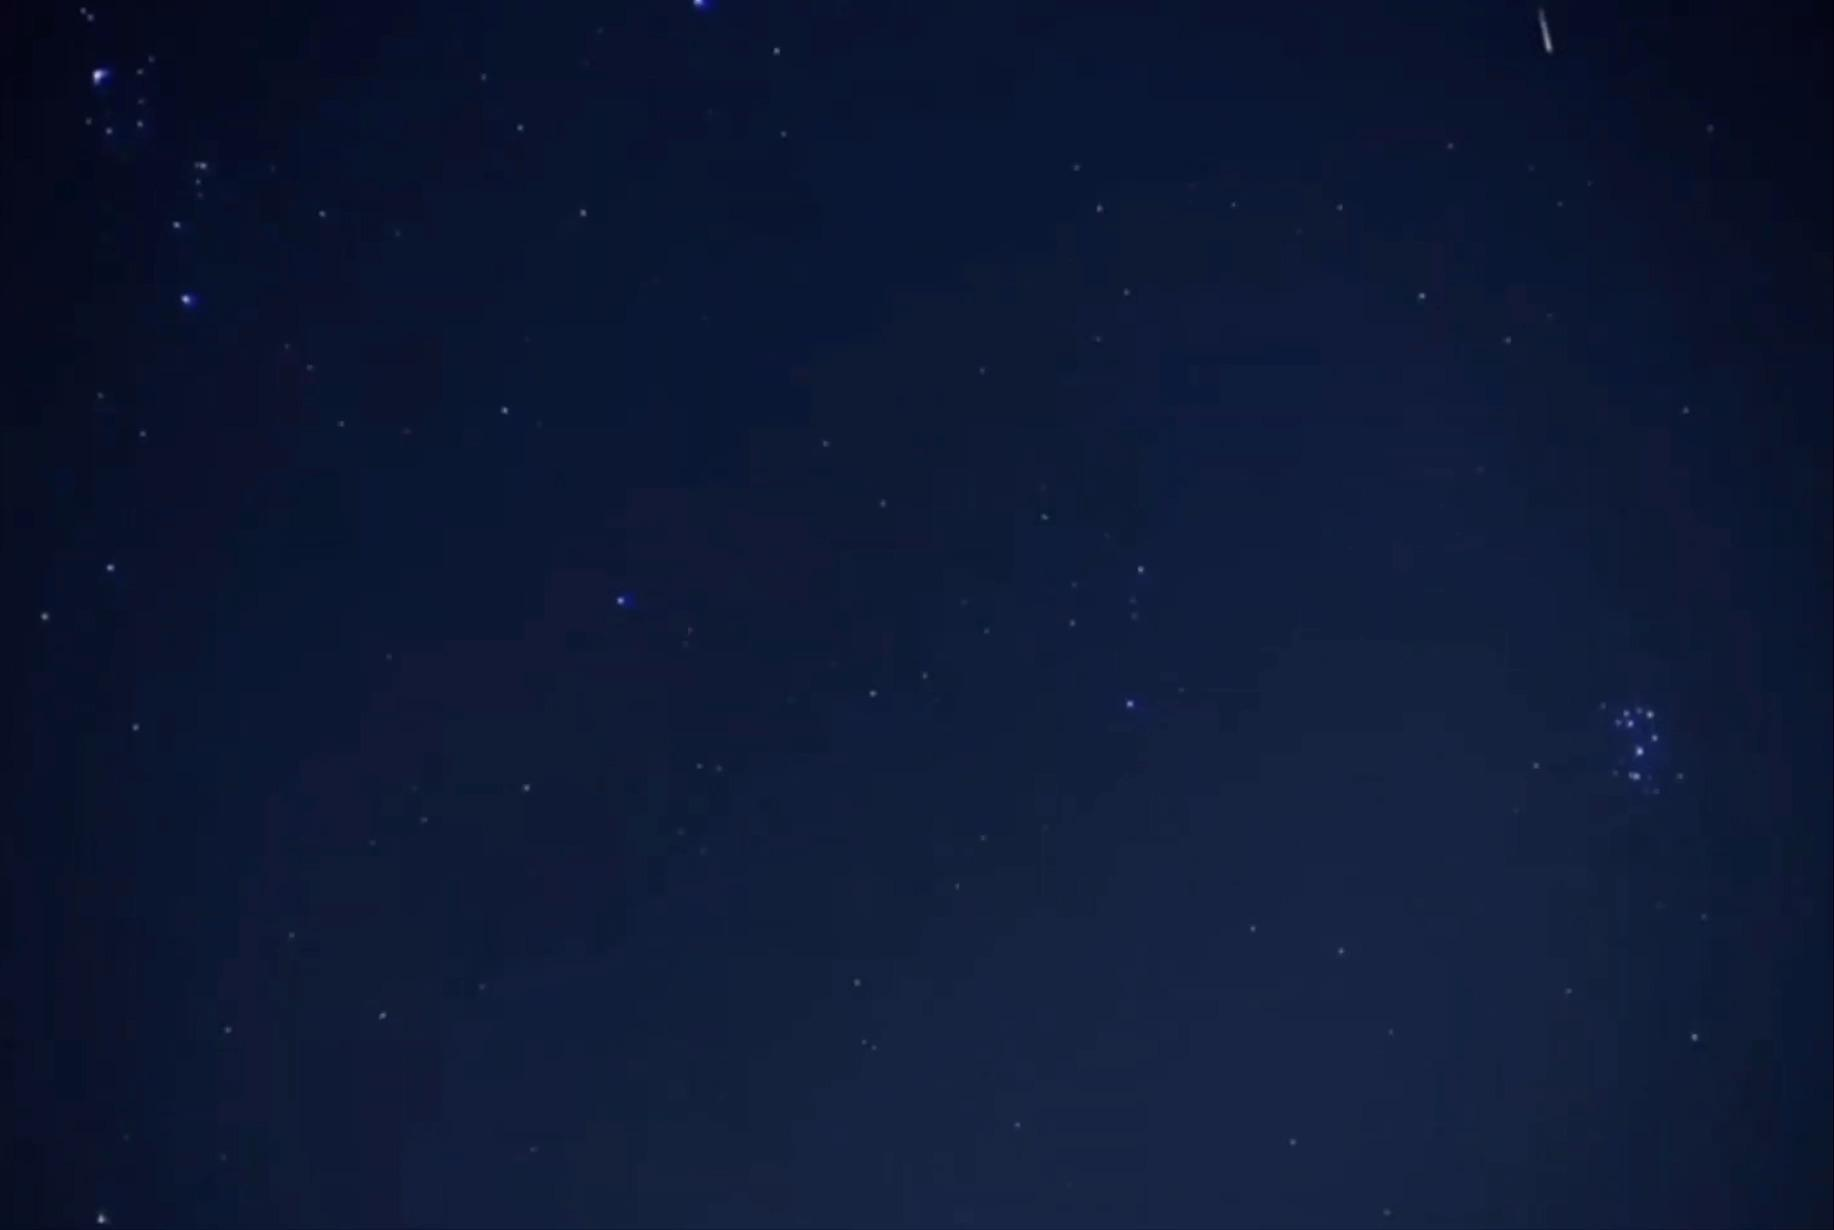meteorite: (1478, 0, 1609, 65)
